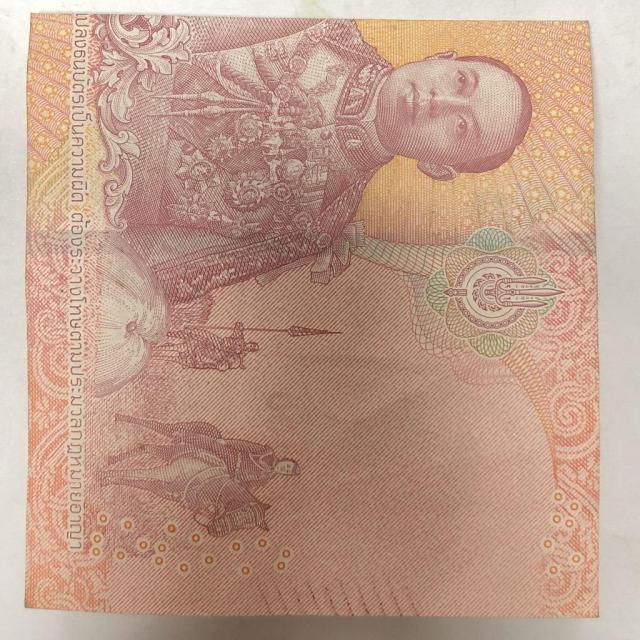THAI100: (25, 14, 598, 618)
